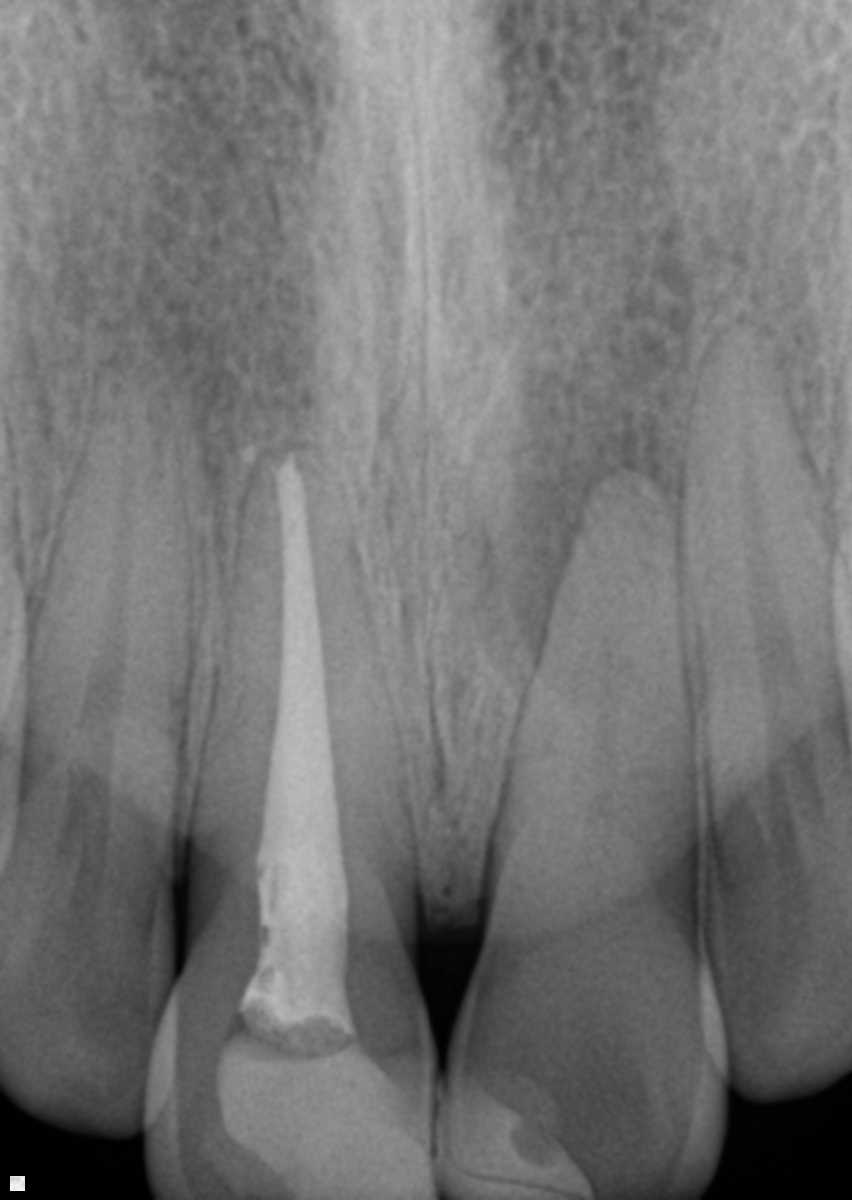Apical Lesion: (464, 303, 727, 633)
Main Canal: (736, 384, 817, 793), (67, 381, 136, 792), (584, 558, 625, 897)
Main Root: (186, 440, 428, 915), (485, 472, 705, 948), (1, 355, 198, 835), (682, 325, 852, 828)
Root Canal Filling: (236, 450, 356, 1036)
